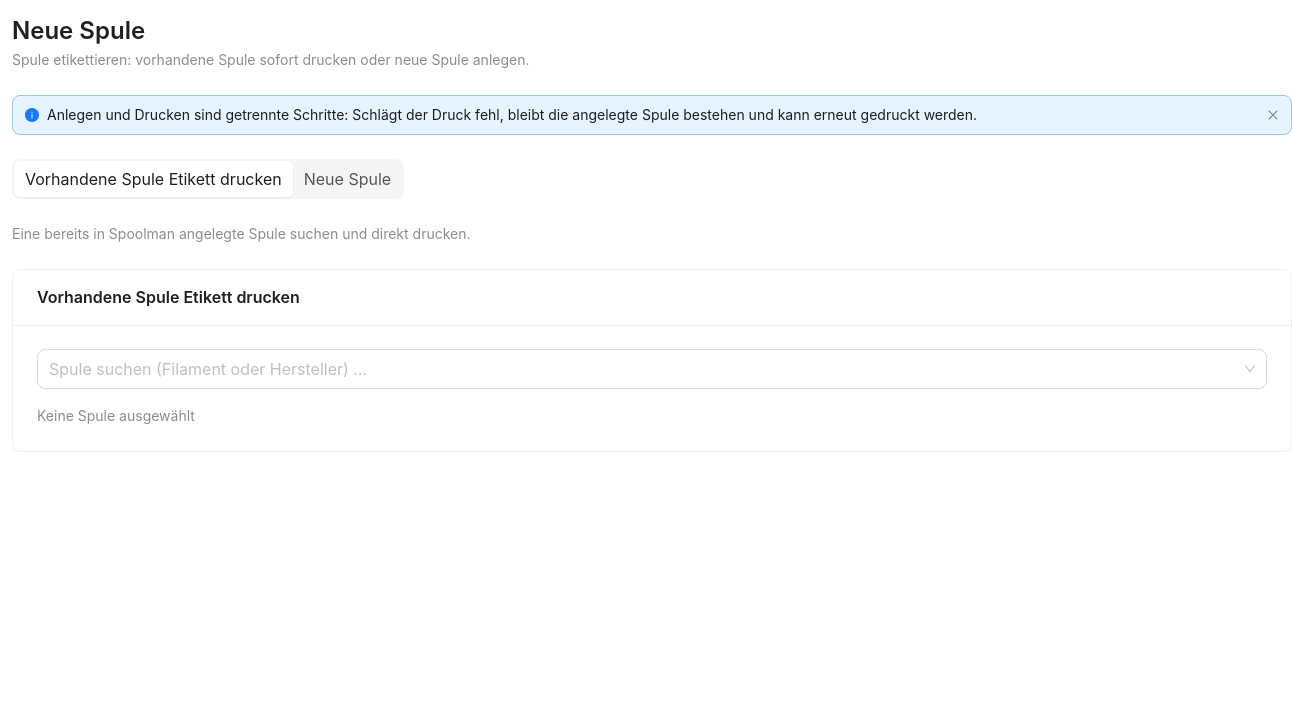
NewSpoolPage – vorhandene Spule drucken › findet eine Spule per Suche und druckt sie mit einem Klick (Server-Standard)
Expected: the heading "Neue Spule" is shown, [12,16,145,45]
Type "PLA" into the dropdown at (643, 369), box [49,350,1237,388]
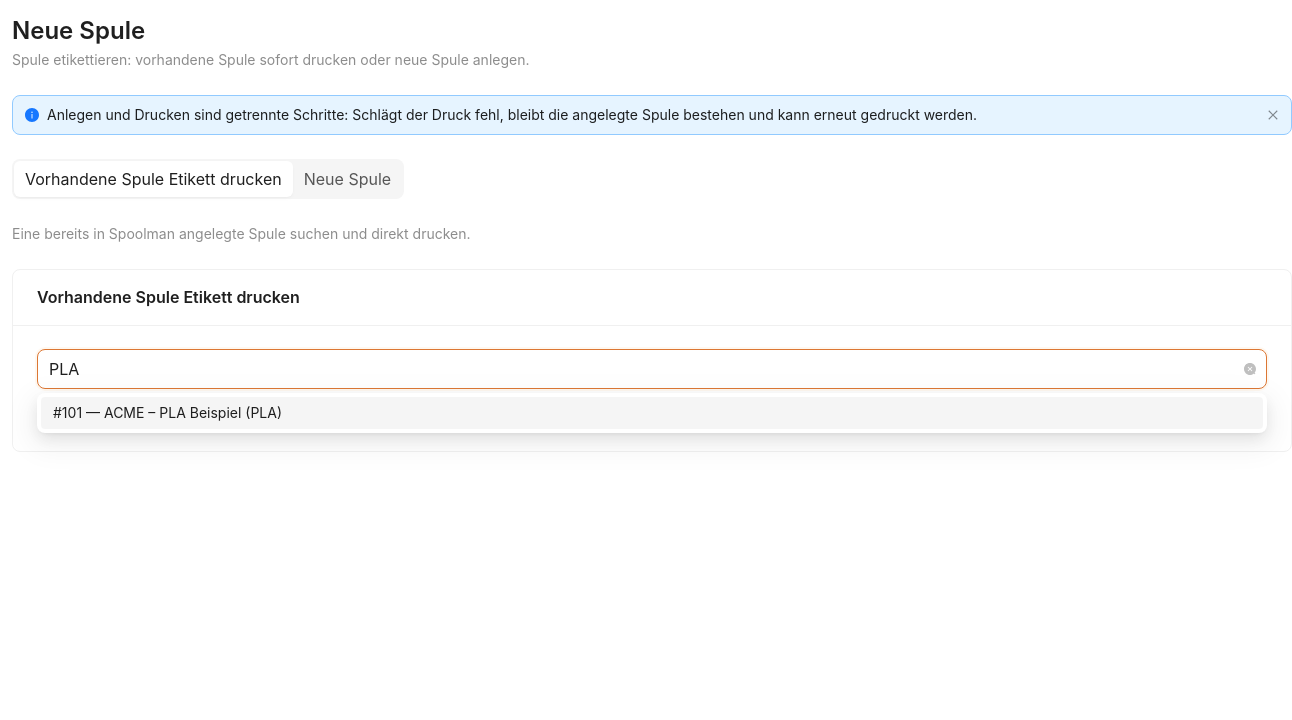
Click the text "#101 — ACME – PLA Beispiel (PLA)" at (168, 412), box [53,404,282,421]
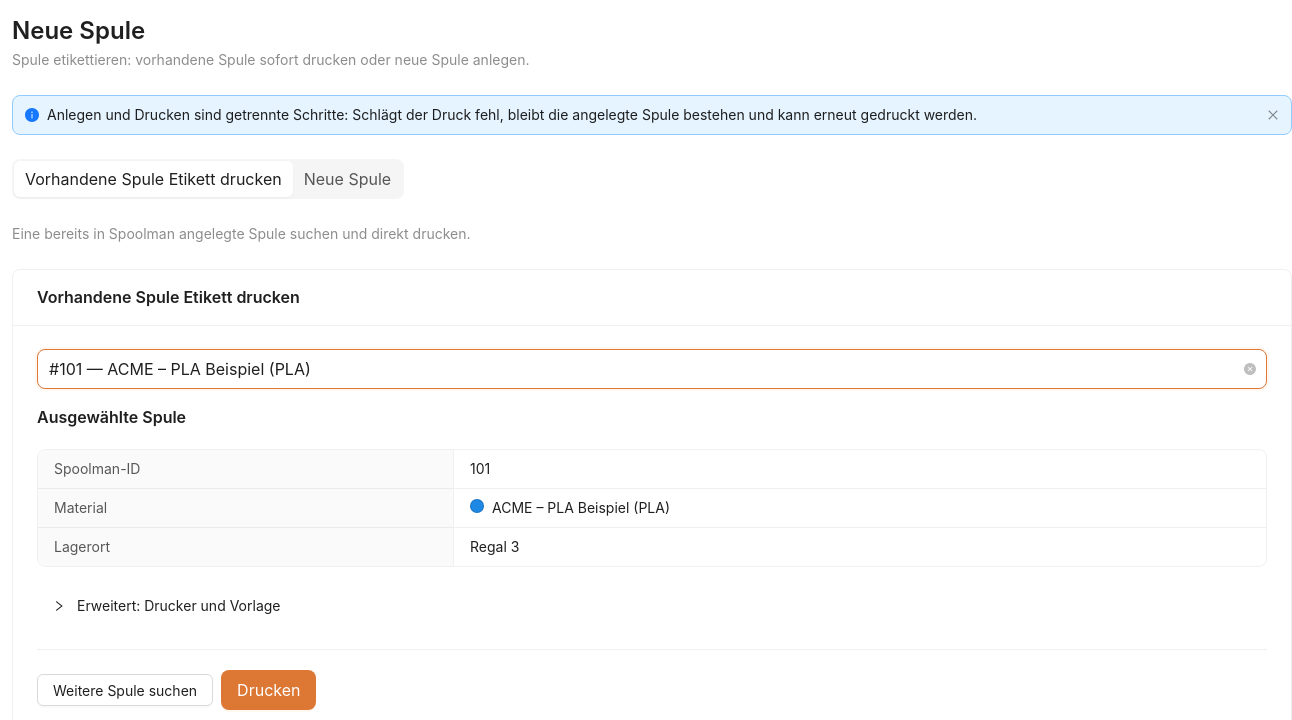
Click the button "Drucken" at (269, 690), box [221,670,316,710]
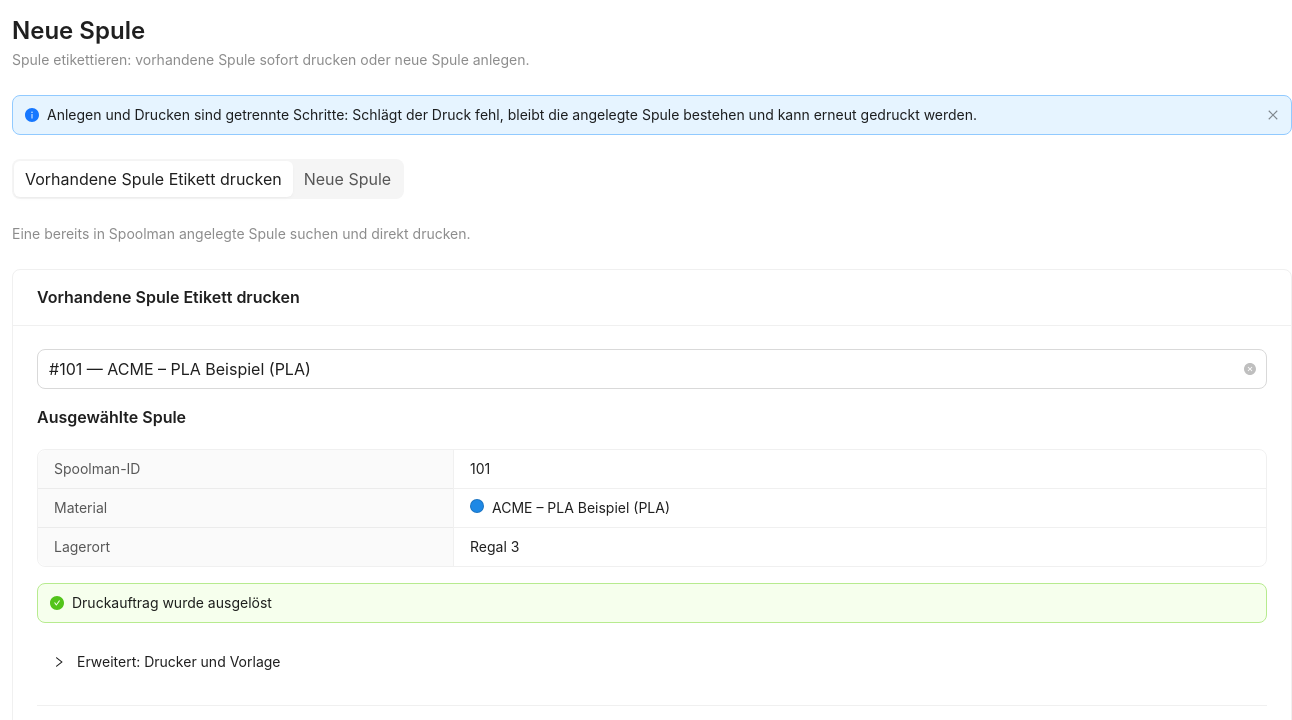
Now the text "Druckauftrag wurde ausgelöst" is shown, box [72,594,272,611]
